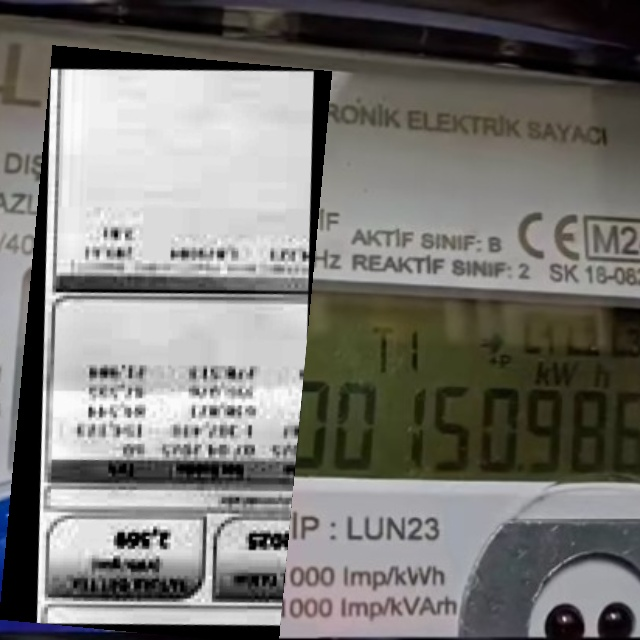electricity-bill: (0, 44, 332, 640)
